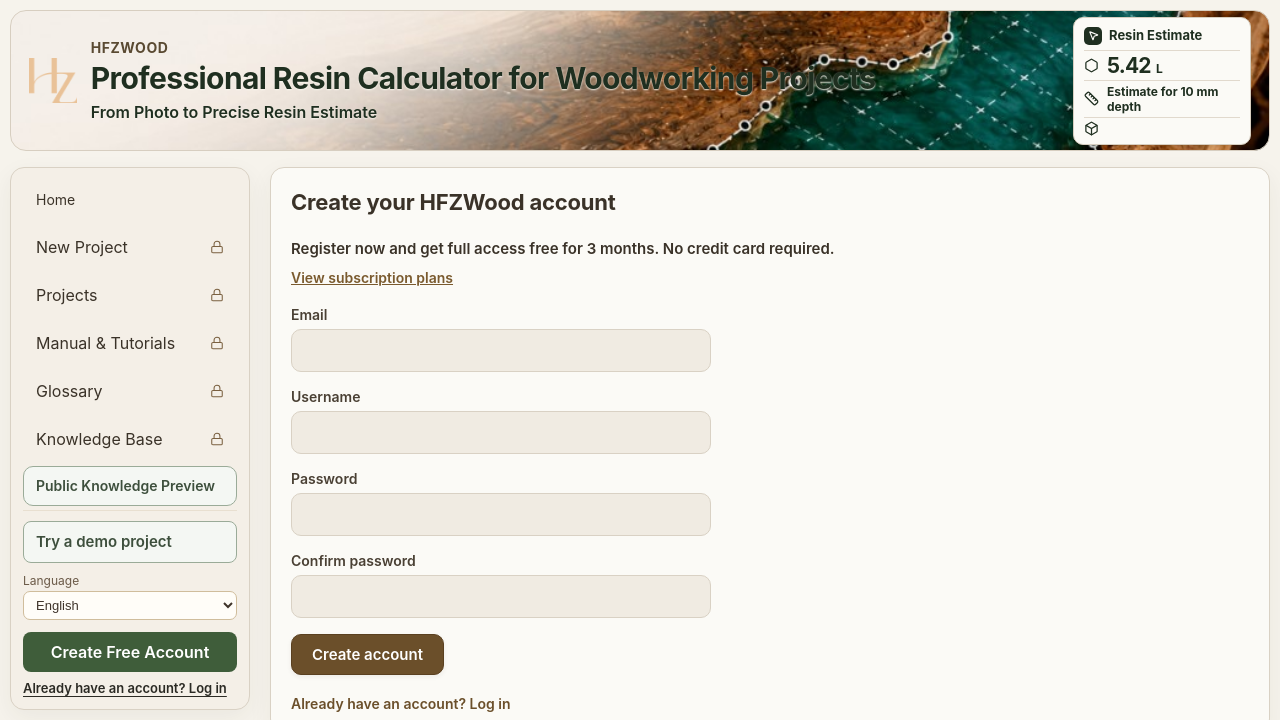
Test: RegisterPage › submits valid registration without rendering raw runtime reset errors
Step 1. Type "new@example.com" into the field labelled "Email" → (501, 351), box [291, 329, 711, 372]
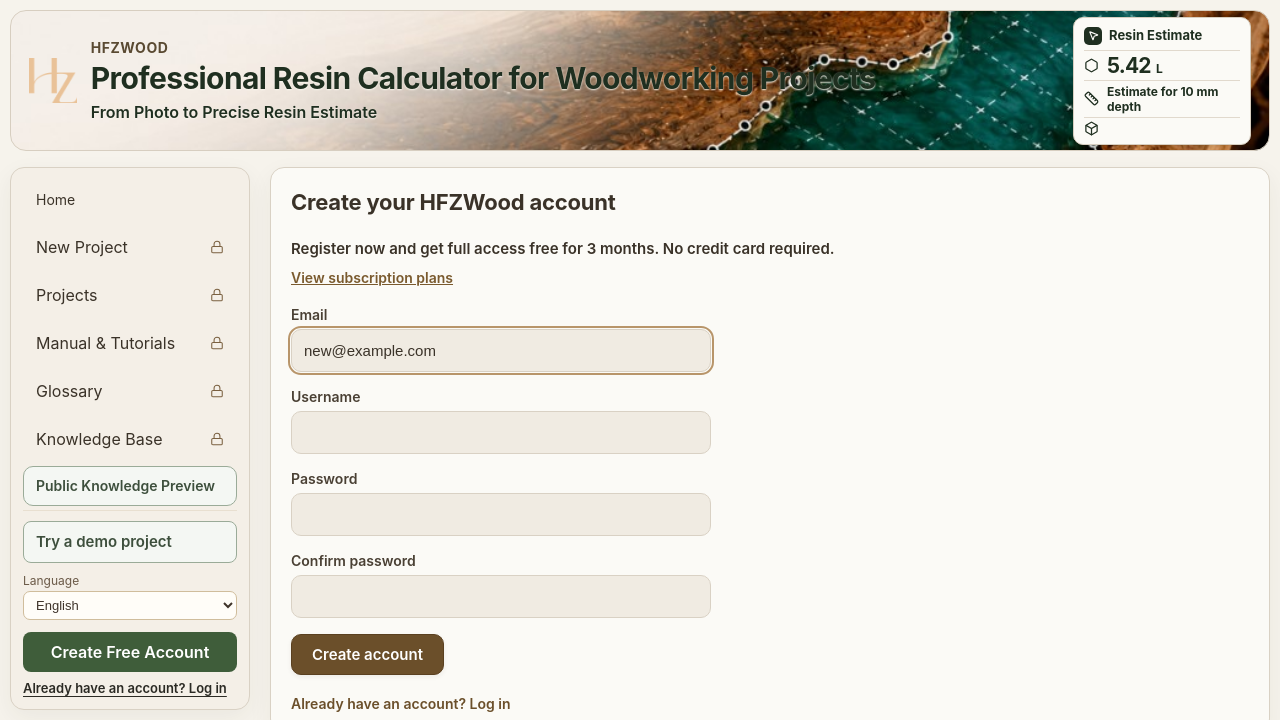
Step 2. Type "newuser" into the field labelled "Username" → (501, 433), box [291, 411, 711, 454]
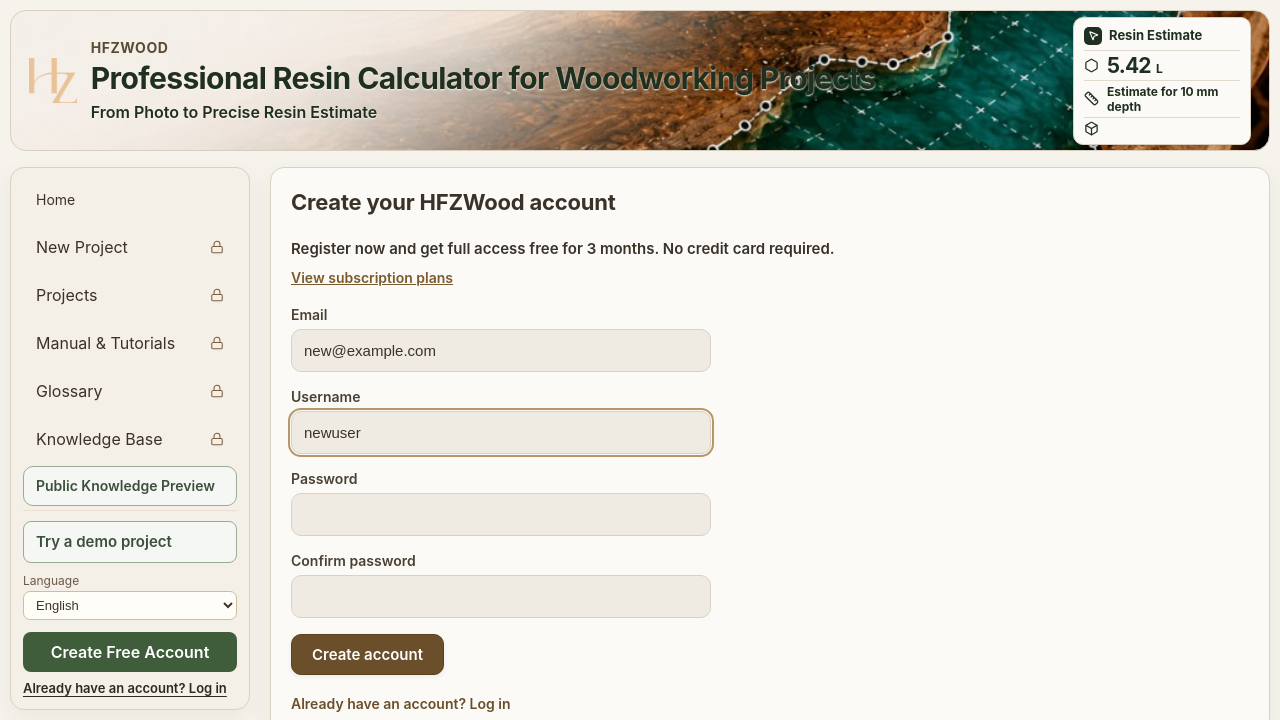
Step 3. Type "password123" into the password field labelled "Password" → (501, 515), box [291, 493, 711, 536]
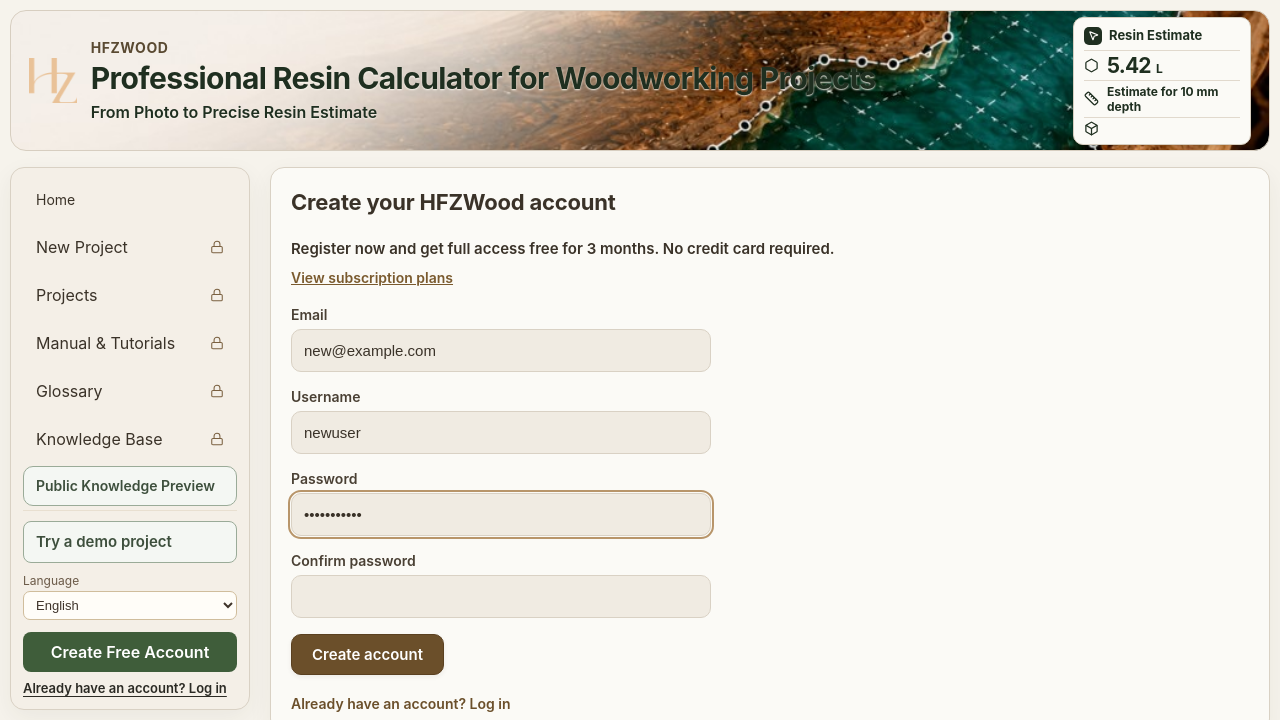
Step 4. Type "password123" into the password field labelled "Confirm password" → (501, 597), box [291, 575, 711, 618]
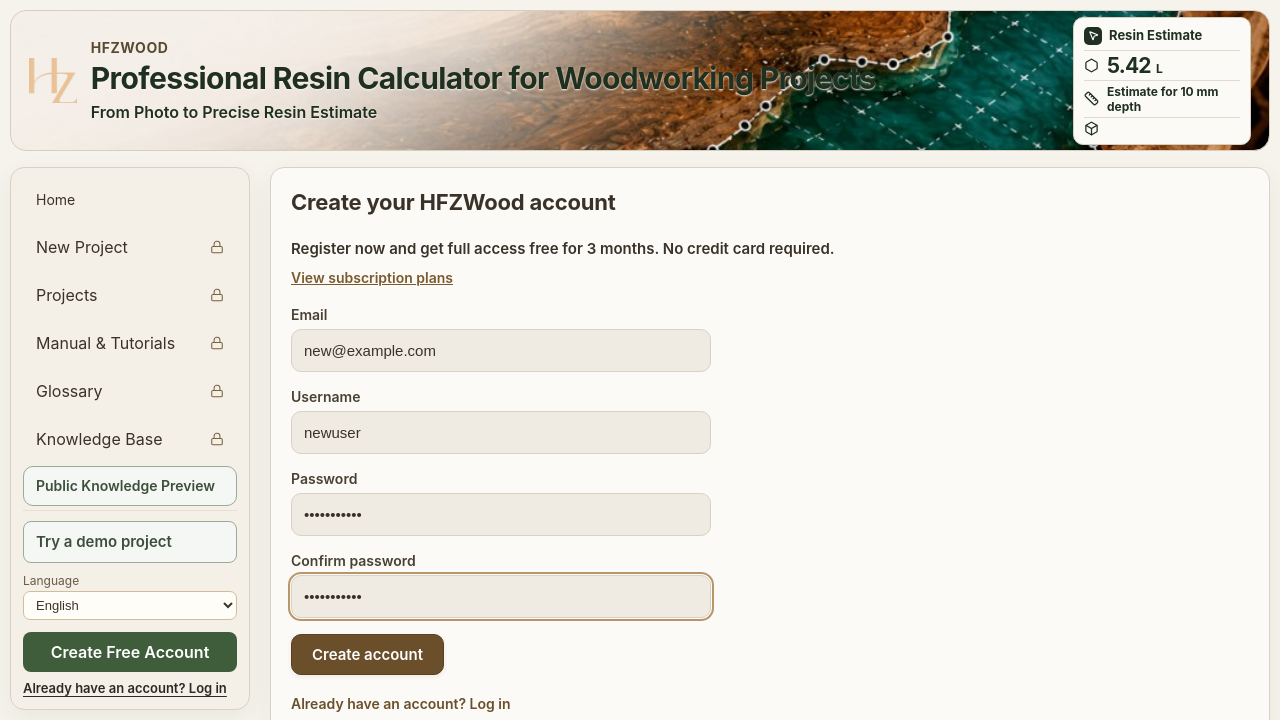
Step 5. Click the button "Create account" → (368, 655), box [291, 634, 444, 675]
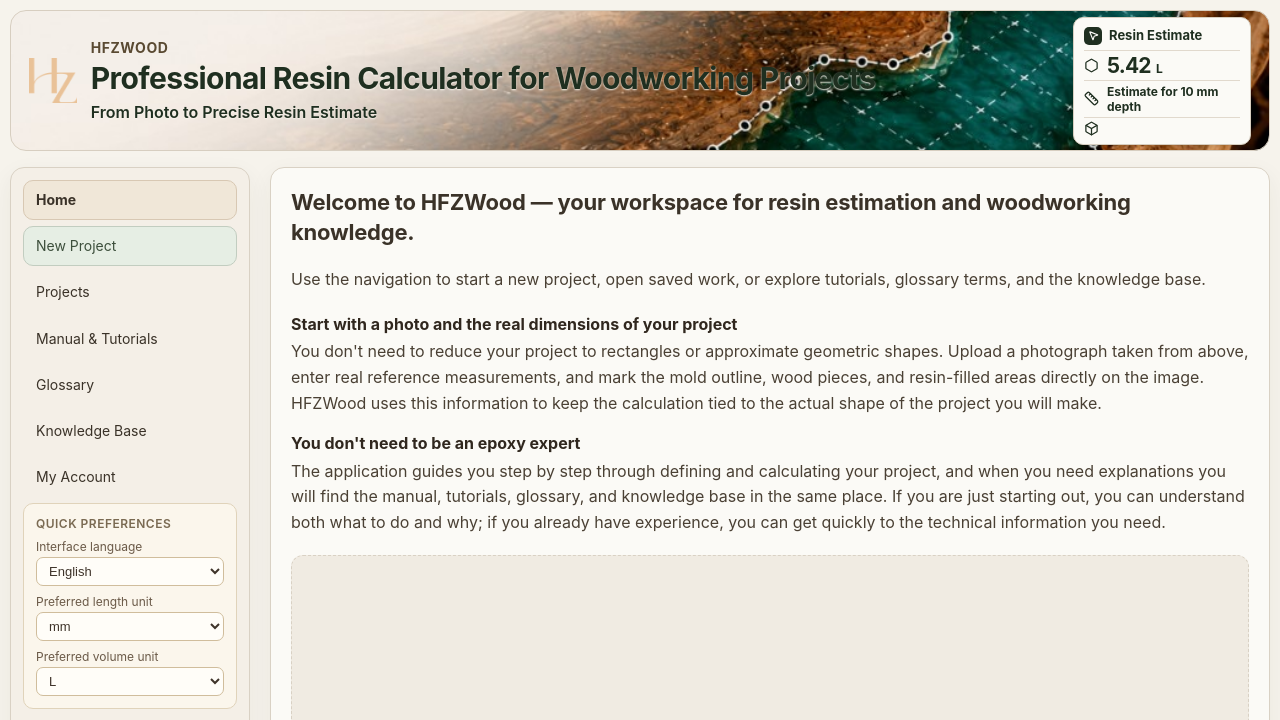
Check: the heading "Welcome to HFZWood — your workspace for resin estimation" is shown, box [291, 189, 1131, 245]
